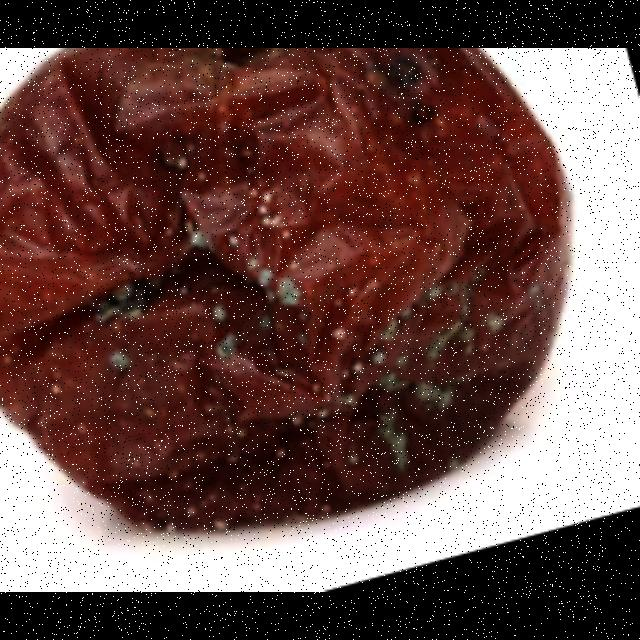Apel Tidak Segar: (0, 48, 568, 538)
